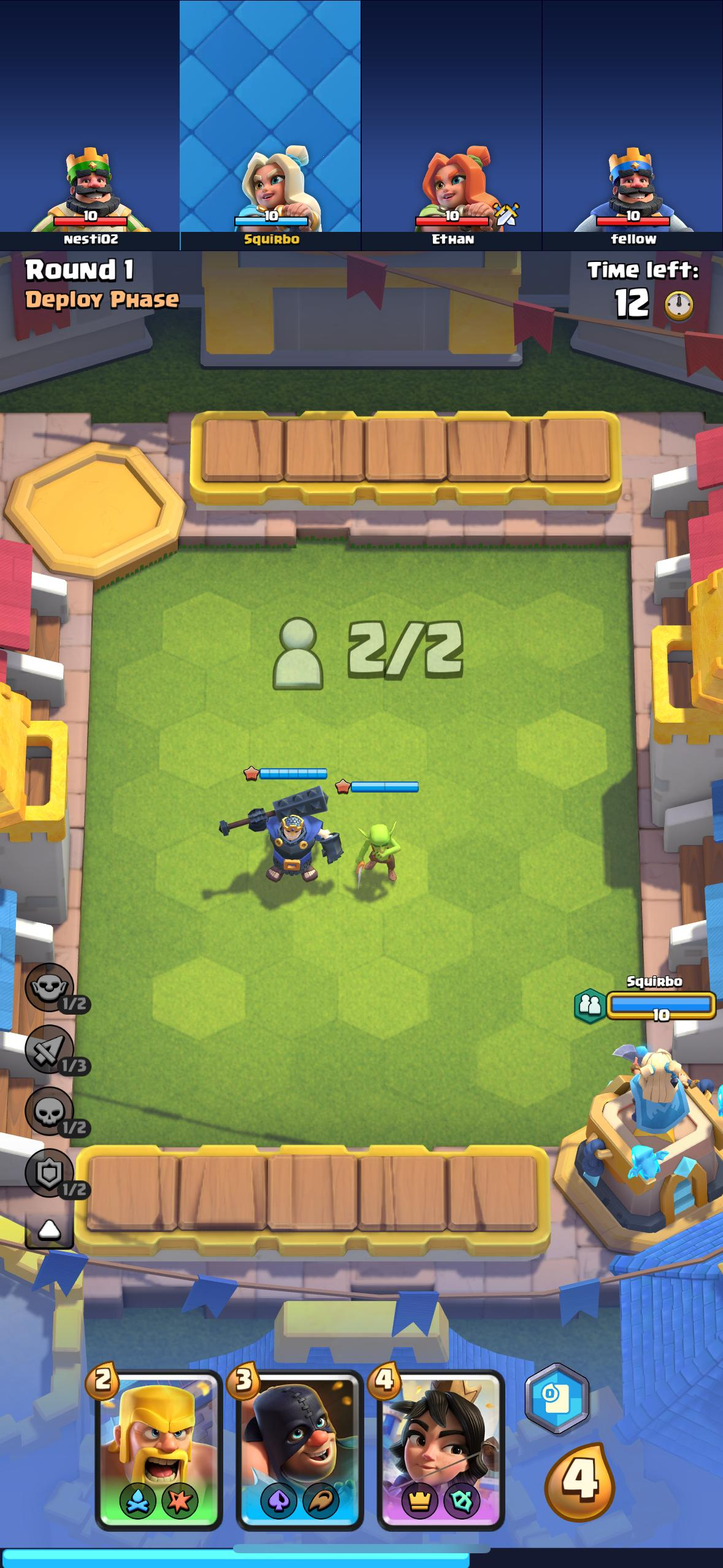goblin: (347, 810, 406, 890)
hand-barbarian: (97, 1372, 219, 1524)
hand-executioner: (237, 1373, 364, 1528)
hand-princess: (379, 1373, 503, 1530)
king: (215, 783, 342, 890)
